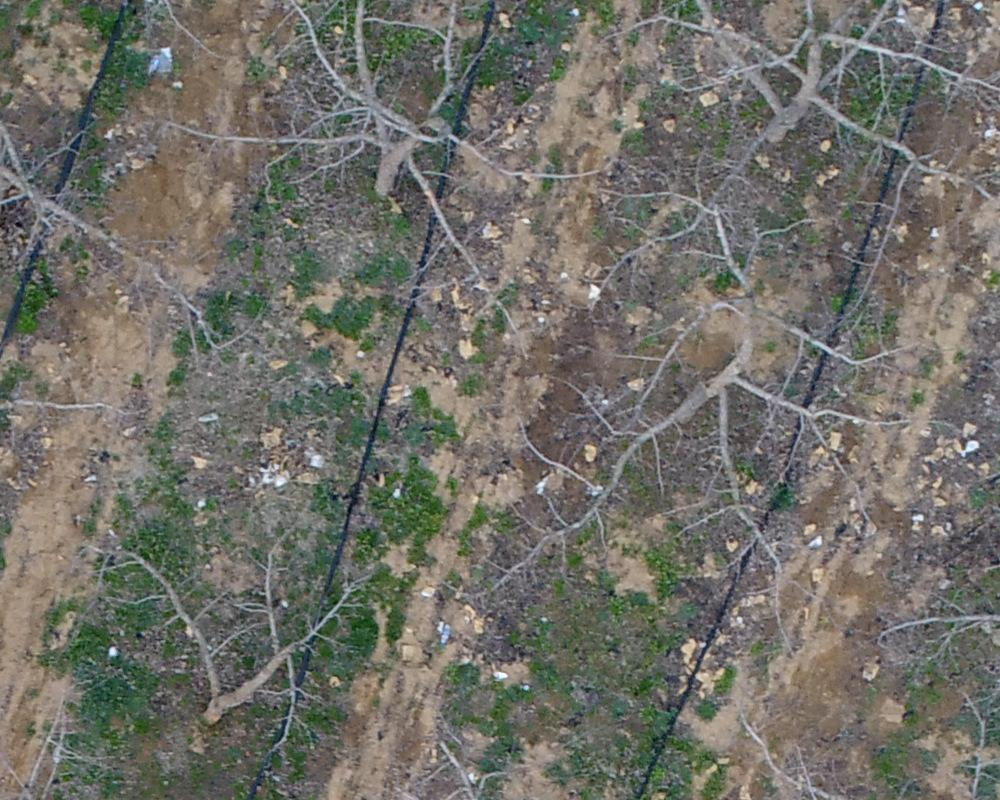apple: (471, 158, 969, 646), (171, 10, 606, 351), (595, 10, 990, 282), (10, 10, 258, 375), (74, 518, 393, 767)
